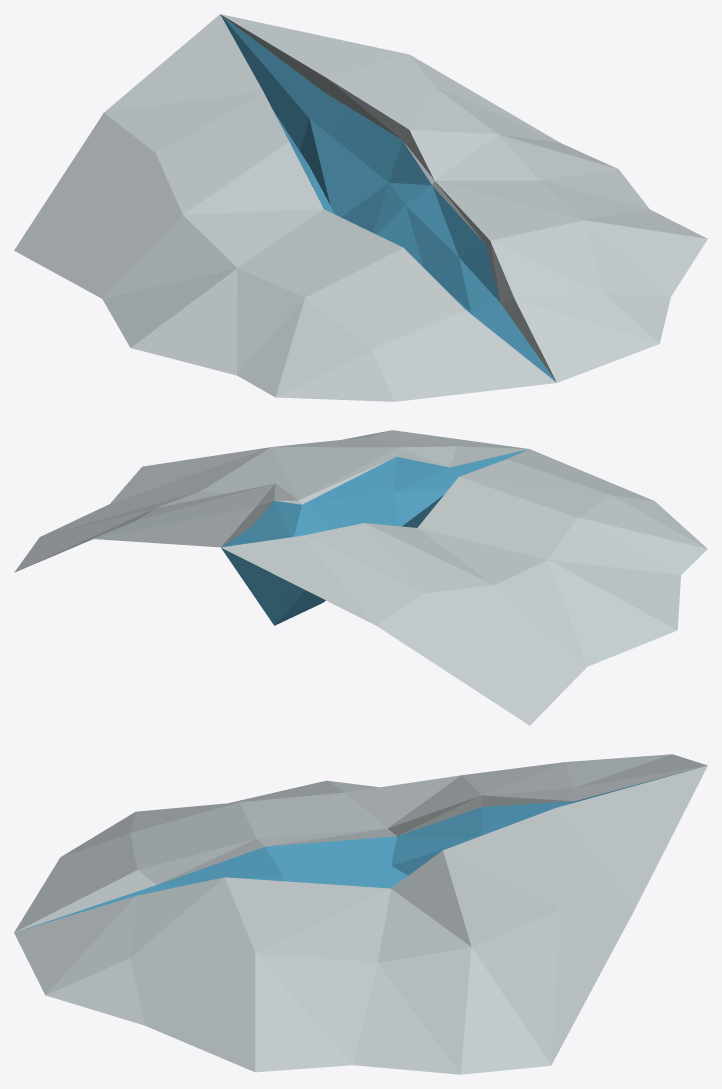
File: snowChasm.fbx
3 views of the same model, one above another, from view 1: azimuth 30°, elevation 25°; view 2: azimuth 150°, elevation 25°; view 3: azimuth 270°, elevation 25° (orthographic). The views are drawn at different scales.
Parts seen in each view (by area): view 1: snowChasm; view 2: snowChasm; view 3: snowChasm.
Part boxes in pixels (x1,y1,x2,y2): snowChasm: (14,14,707,401); snowChasm: (14,430,707,725); snowChasm: (14,754,707,1074).
Bounding box in the file's own units: 2.64 × 0.6547 × 2.64.
